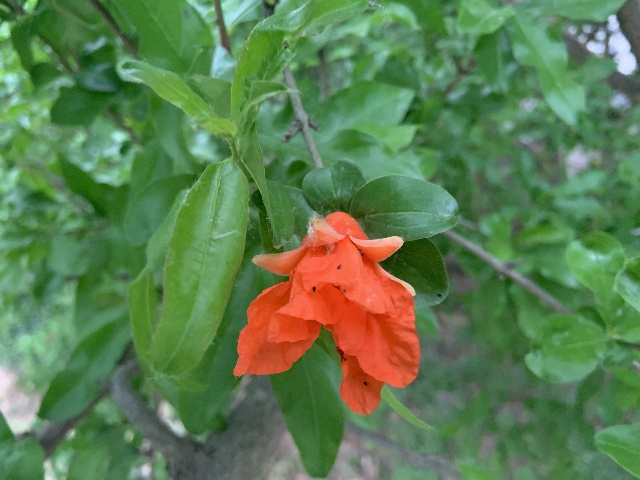flower: (235, 210, 419, 414)
